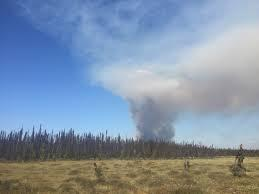smoke: (104, 63, 187, 142)
